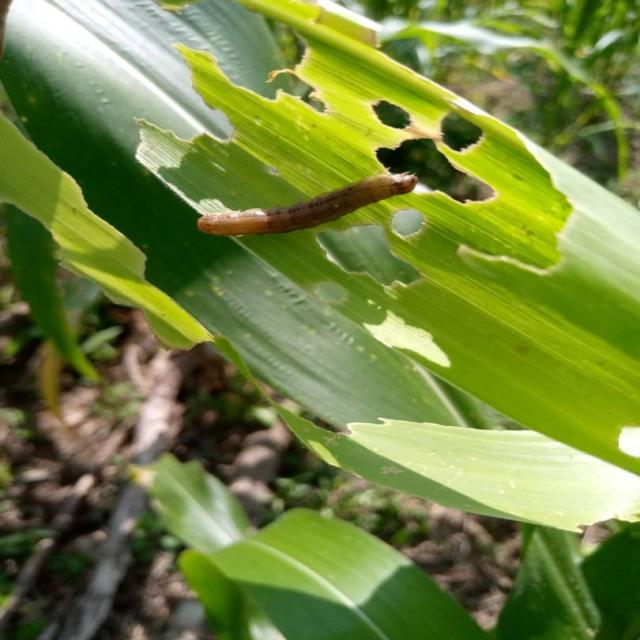yellow-stem-borer-larva: (191, 140, 429, 252)
